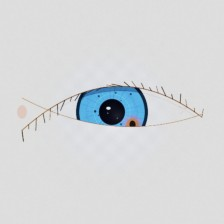foreign_body_visible: (112, 108, 153, 141)
